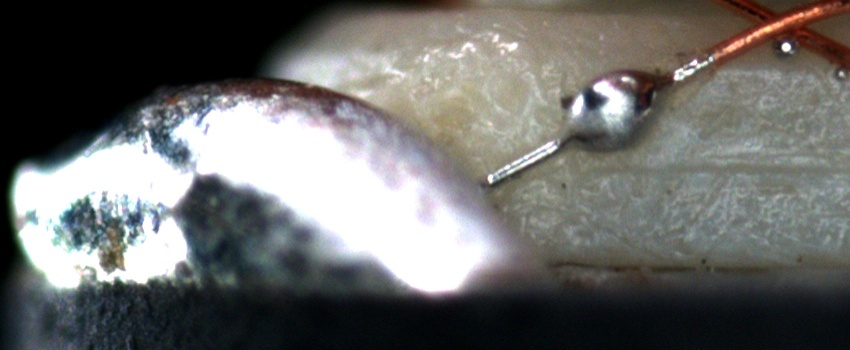CL: (726, 0, 828, 58)
DL: (562, 134, 850, 198), (684, 51, 850, 93)
TB: (558, 62, 674, 161)
TS: (486, 58, 710, 184)
TTCW: (475, 21, 765, 192)
